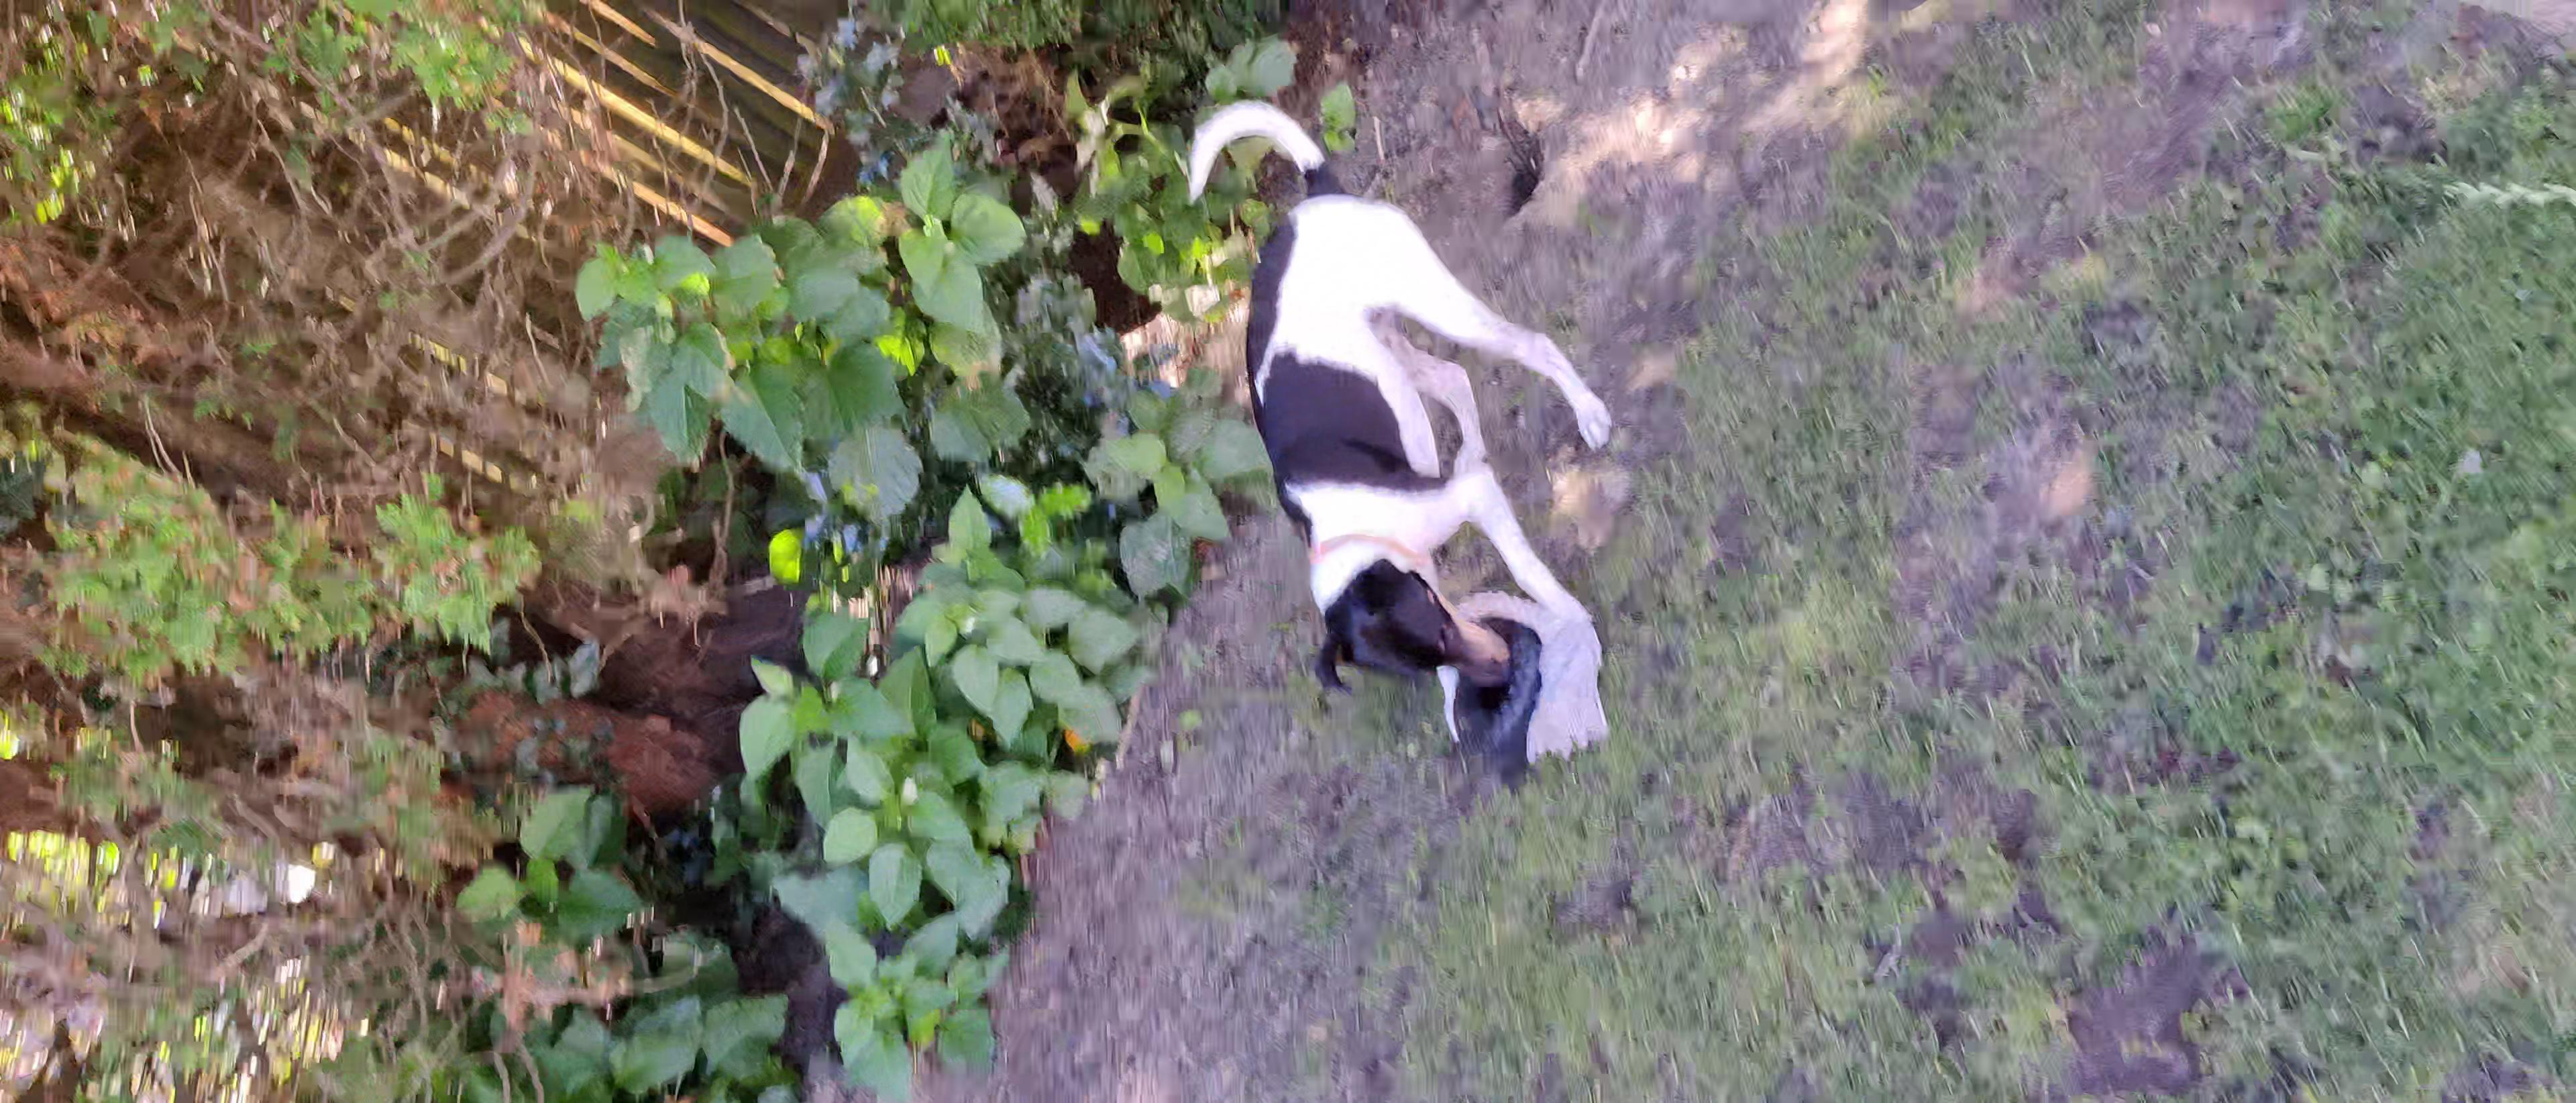Dog: (1148, 79, 1613, 753)
